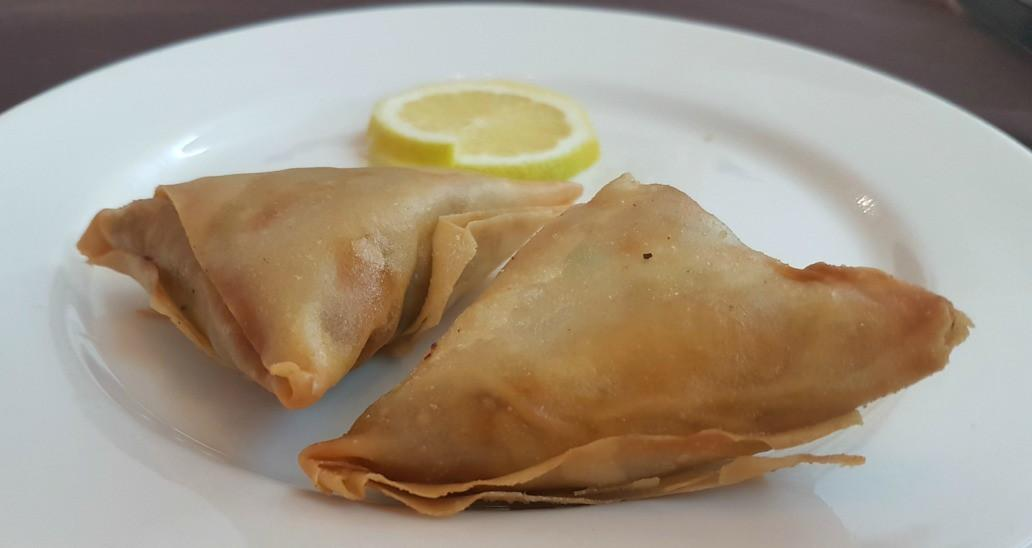Samosa: (298, 172, 973, 521), (81, 169, 584, 409)
